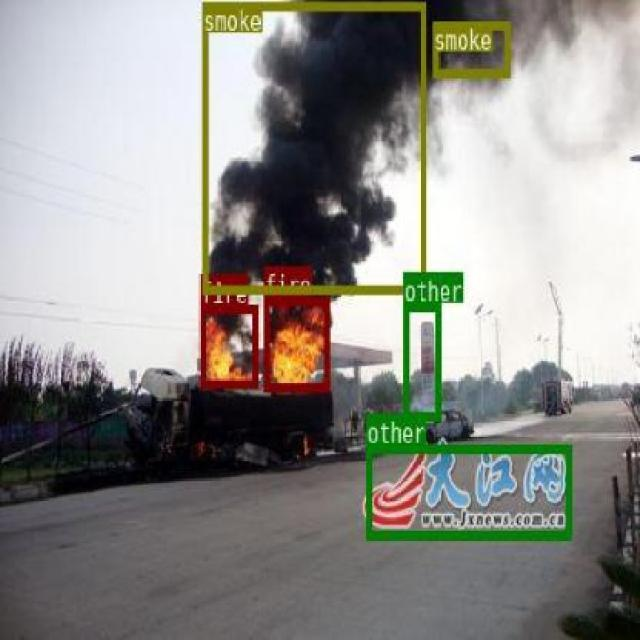Fire: (262, 296, 328, 390), (198, 304, 257, 387)
Smoke: (201, 0, 424, 292), (430, 19, 510, 76)
